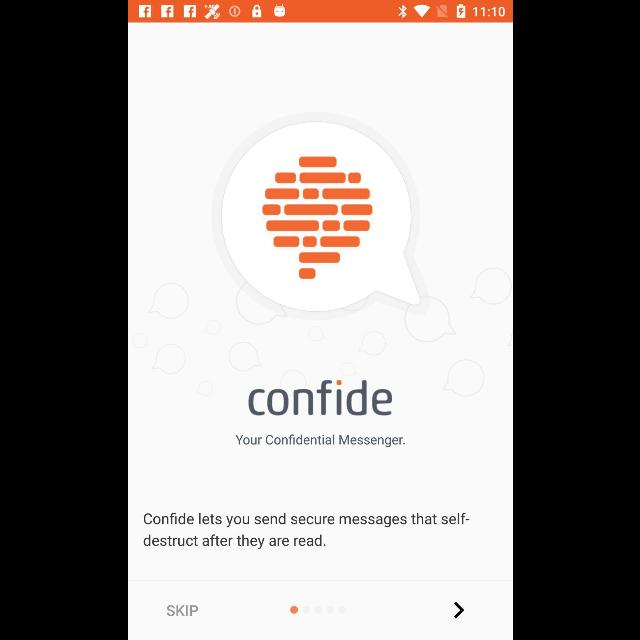icon: (452, 602, 463, 618)
image: (210, 111, 428, 317), (246, 378, 392, 416)
pageindicator: (290, 606, 346, 614)
text: (143, 512, 469, 550), (234, 432, 406, 448), (166, 604, 198, 616)
uppertaskbar: (128, 1, 512, 23)
